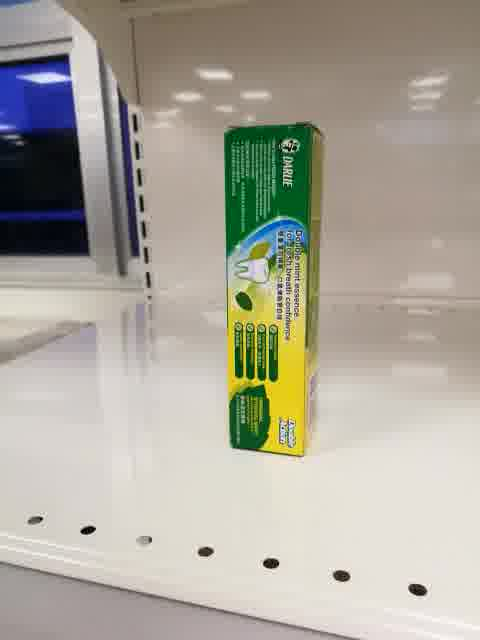toothpaste: (222, 123, 325, 457)
